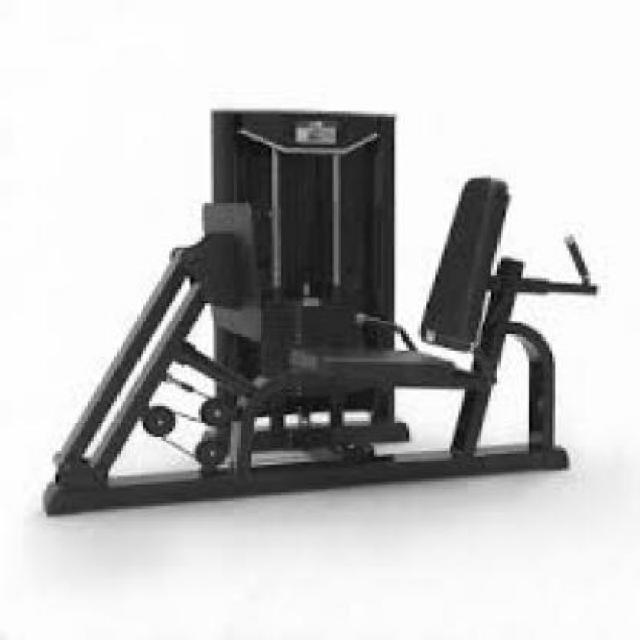leg press: (37, 86, 640, 569)
